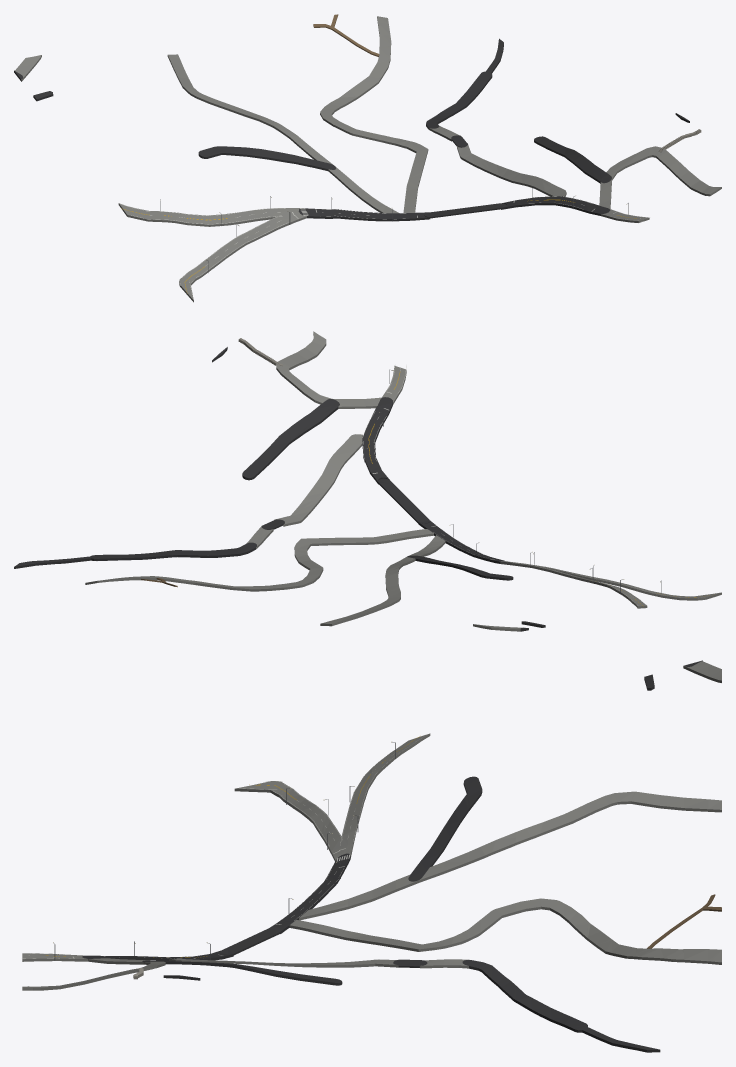
Rendered from 17-109433-59480.cdb95875.glb.
The picture shows the model from 3 angles, top to bottom: view 1: azimuth 30°, elevation 25°; view 2: azimuth 150°, elevation 25°; view 3: azimuth 270°, elevation 25°; orthographic projection. The views are drawn at different scales.
Size of the model in its own units: 294 by 61.65 by 295.
